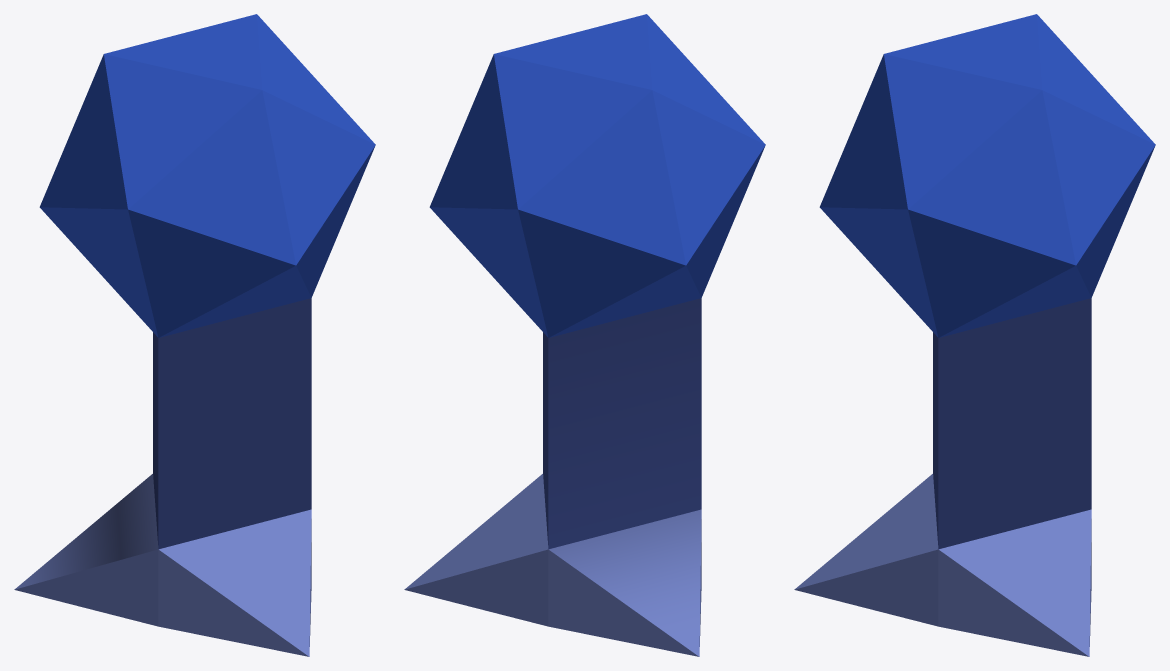
The model's file is AoeTower.fbx.
3 renders of one model, left to right at view 1: azimuth 30°, elevation 25°; view 2: azimuth 150°, elevation 25°; view 3: azimuth 270°, elevation 25°, orthographic.
Parts seen in each view (by area): view 1: AOETower; view 2: AOETower; view 3: AOETower.
Part boxes in pixels (x1,y1,x2,y2): AOETower: [14, 14, 375, 656]; AOETower: [404, 14, 765, 656]; AOETower: [794, 14, 1155, 656].
Bounding box in the file's own units: 4.64 × 8.18 × 5.01.
